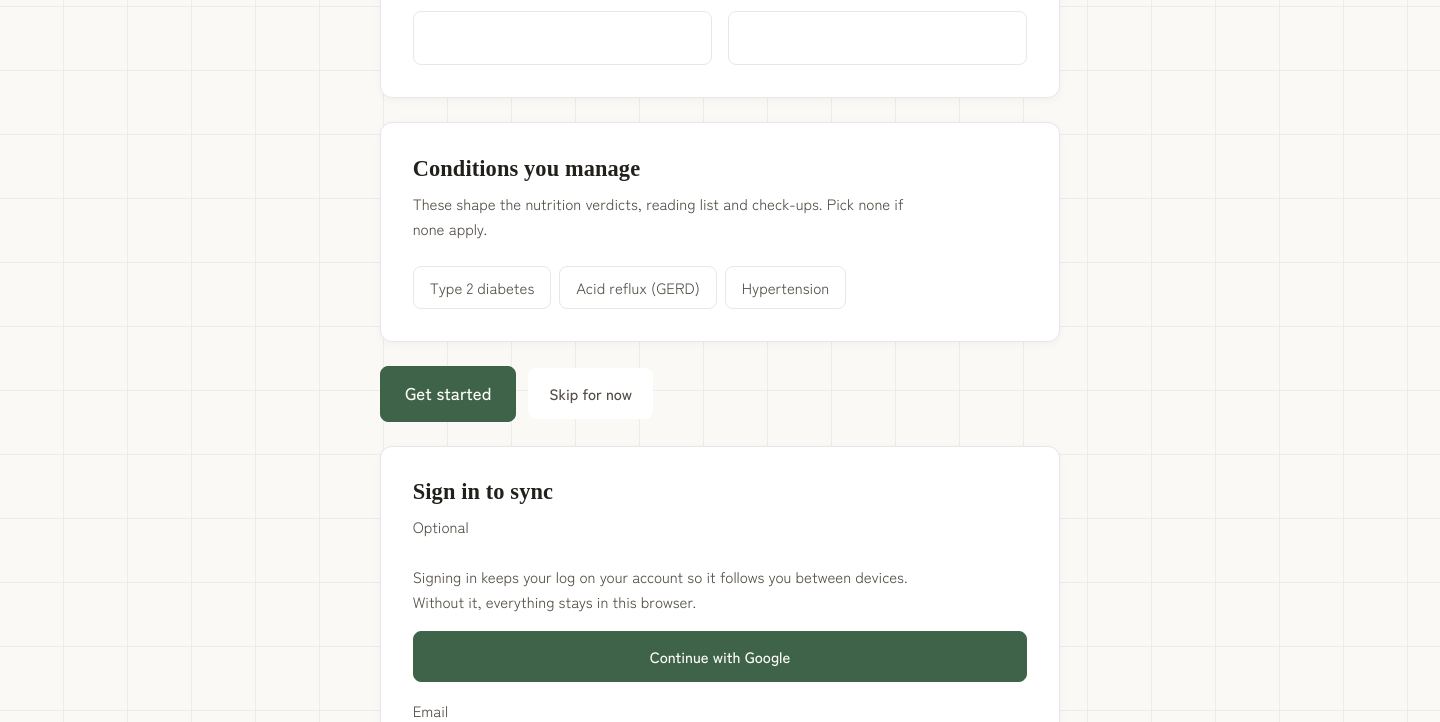
Test case: the symptom check › upgrades the band when the server sees something the browser did not
(page scrolled)
Click the button "Skip for now": (591, 394) [528,368,653,420]
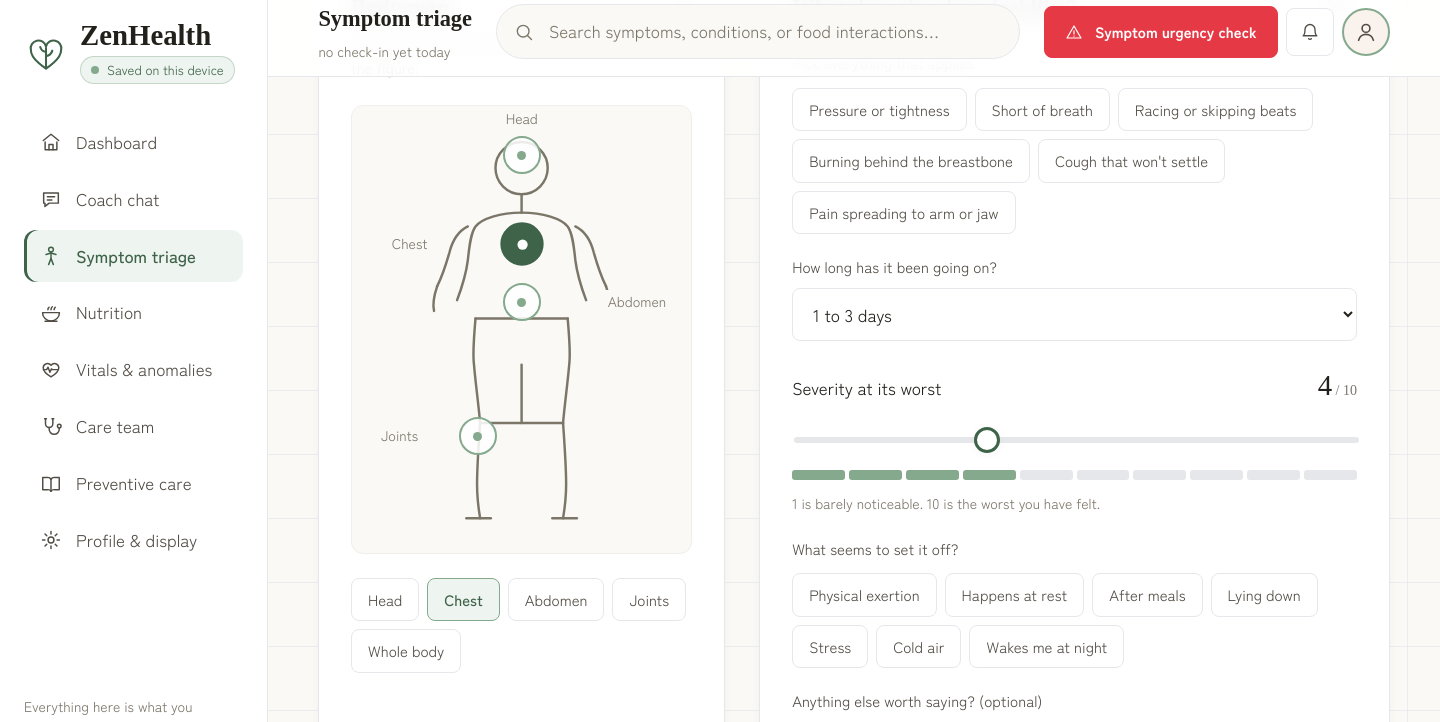
Click the button "Burning behind the breastbone": (911, 161) [792,139,1030,183]
(page scrolled)
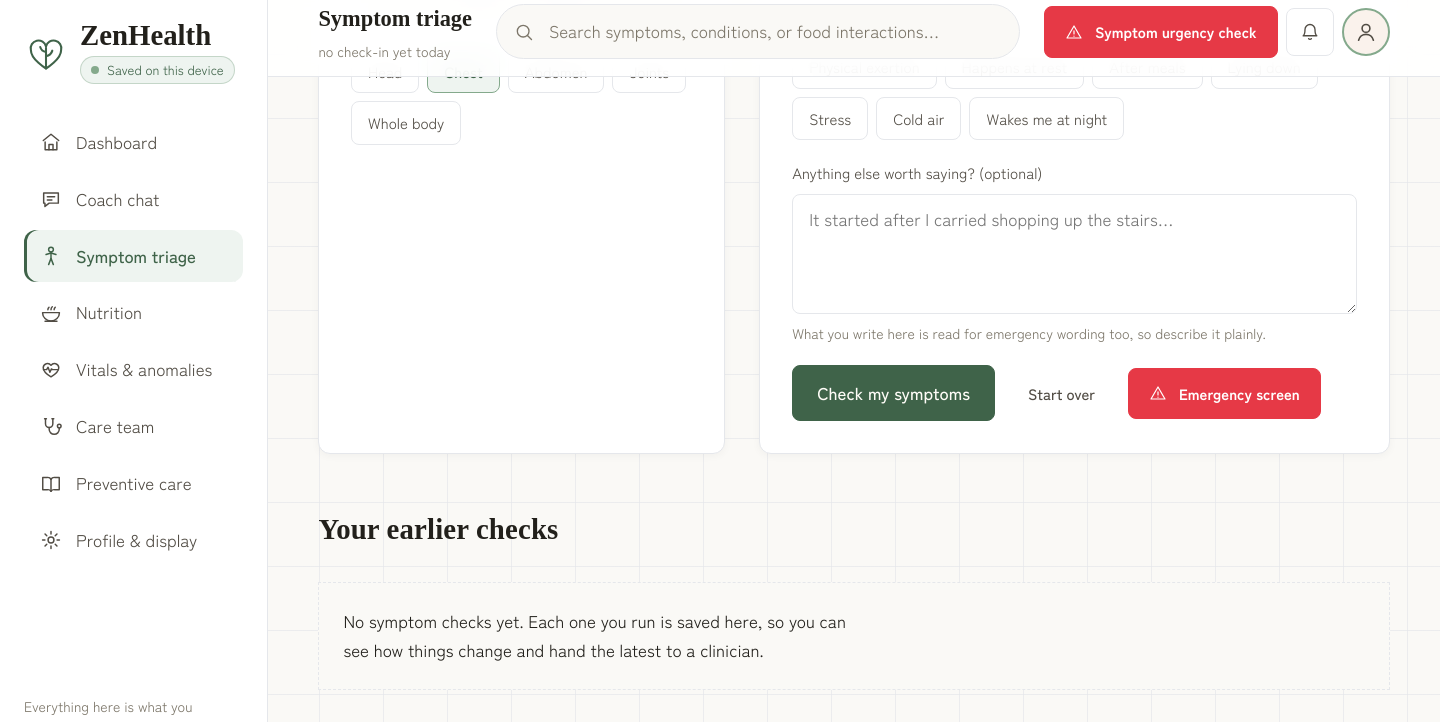
Click the button "Check my symptoms": (894, 393) [792,365,995,421]
(page scrolled)
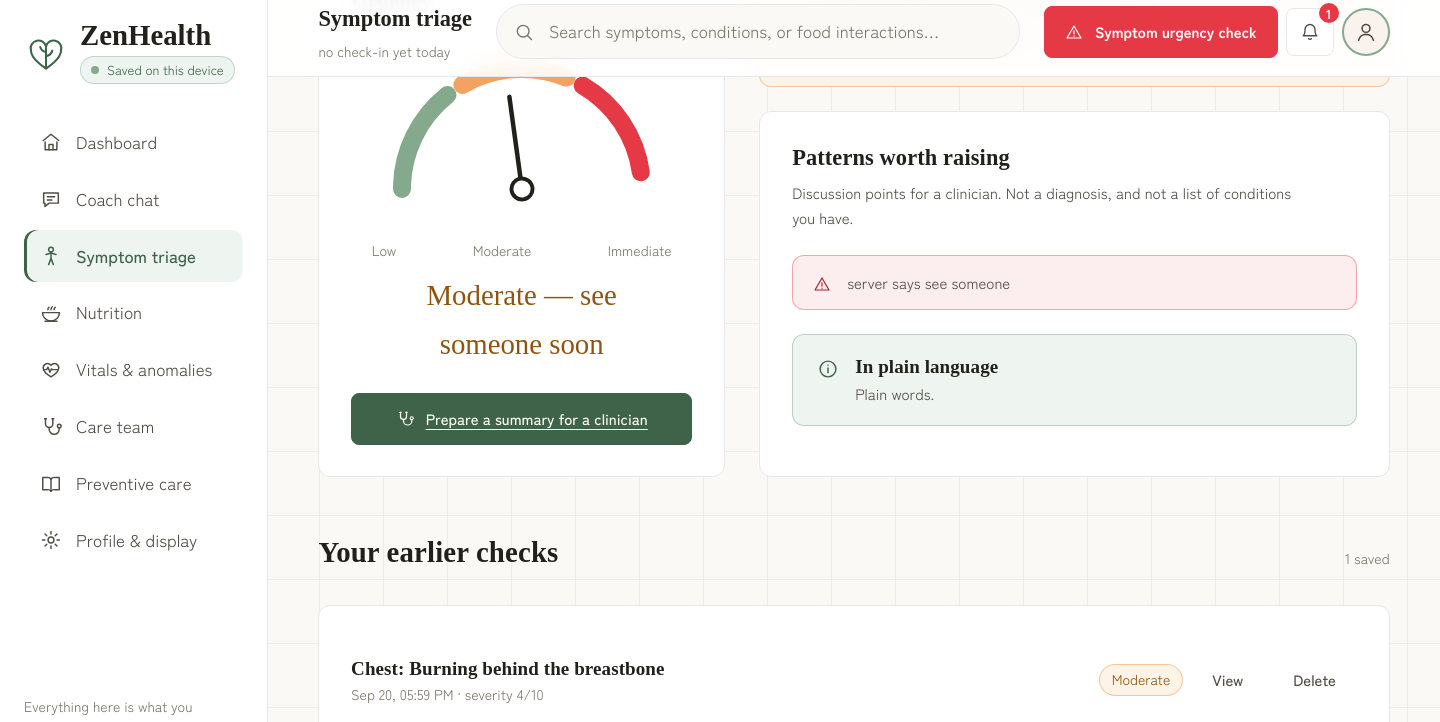
Expected: the text "Plain words." is shown, [855,383,934,404]
